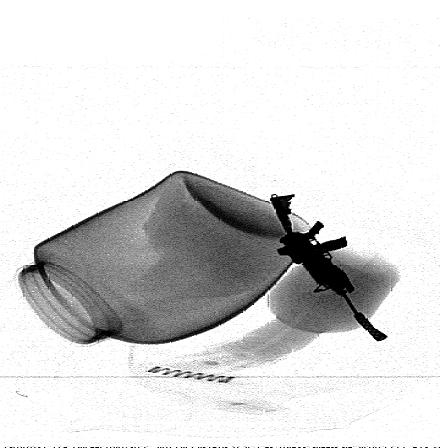Gun: (262, 192, 390, 345)
